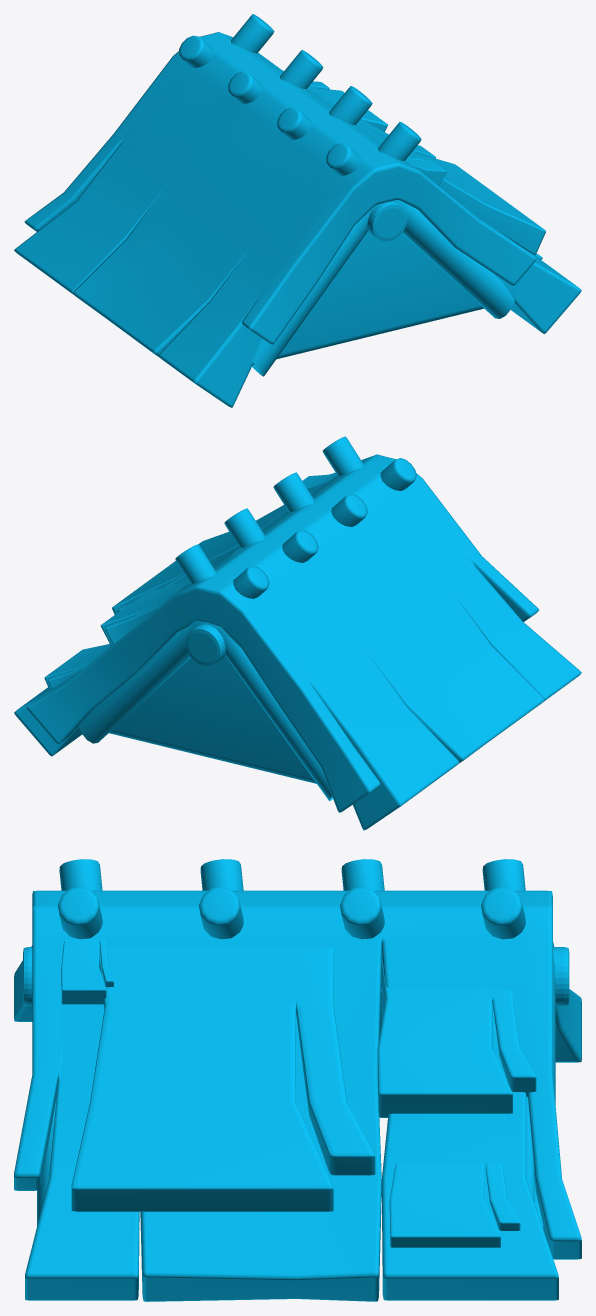
File: SM_Clay_Roof_06.fbx
3 renders of one model, top to bottom at view 1: azimuth 30°, elevation 25°; view 2: azimuth 150°, elevation 25°; view 3: azimuth 270°, elevation 25°, orthographic. The views are drawn at different scales.
Parts seen in each view (by area): view 1: SM_Clay_Roof_06; view 2: SM_Clay_Roof_06; view 3: SM_Clay_Roof_06.
Boxes of the visible parts, x1=… form: SM_Clay_Roof_06: x1=14, y1=14, x2=581, y2=407; SM_Clay_Roof_06: x1=14, y1=436, x2=581, y2=830; SM_Clay_Roof_06: x1=14, y1=859, x2=581, y2=1301.
Size of the model in its own units: 1.15 by 0.6452 by 1.01.
